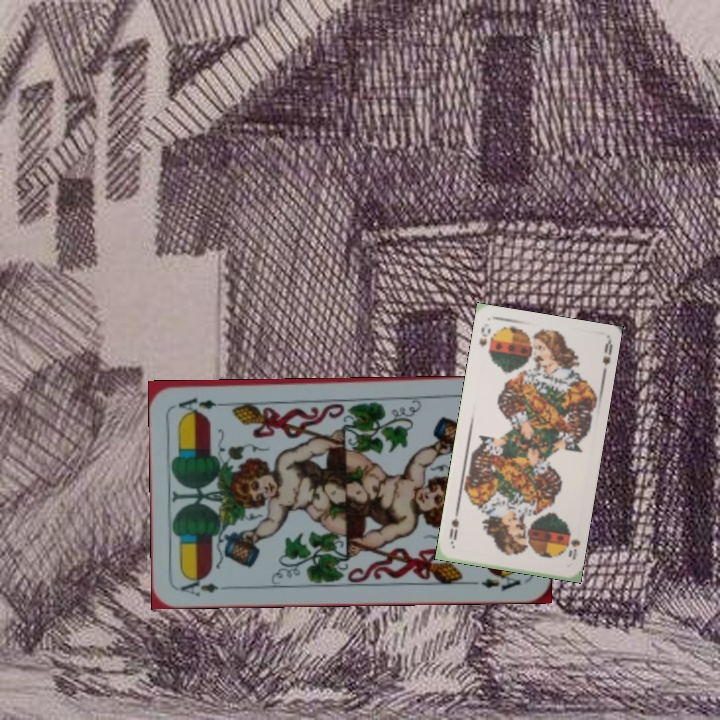EA: (176, 573, 221, 599)
SO: (564, 536, 582, 562), (475, 323, 493, 349)
